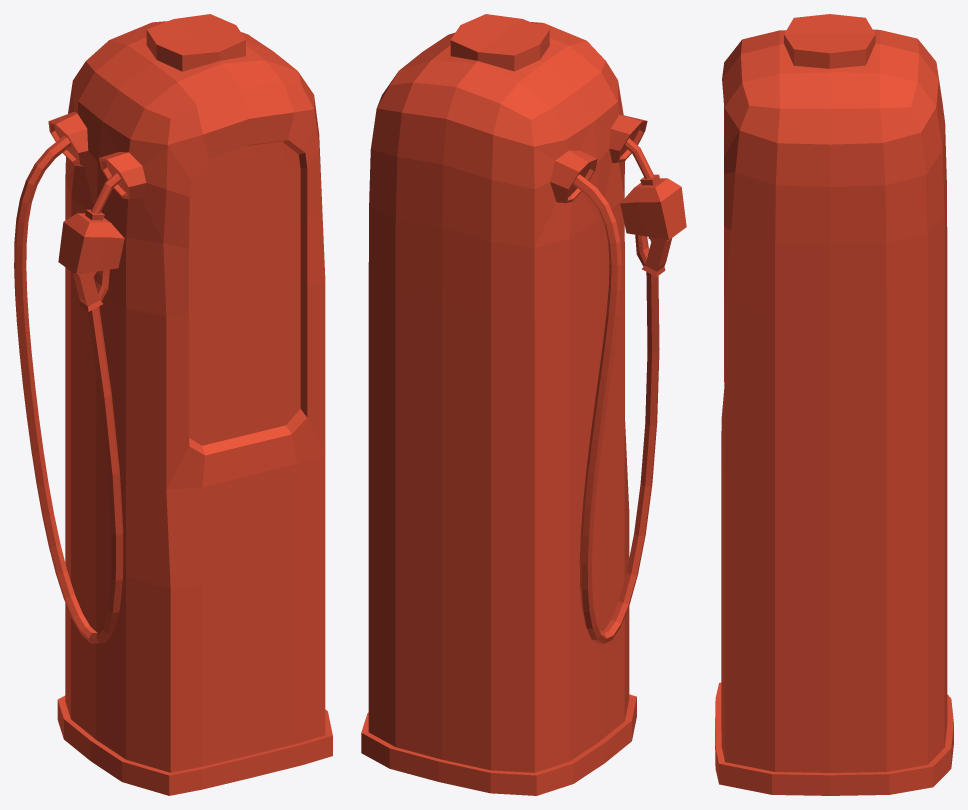
Rendered from Gas Pump.fbx.
3 renders of one model, left to right at view 1: azimuth 30°, elevation 25°; view 2: azimuth 150°, elevation 25°; view 3: azimuth 270°, elevation 25°, orthographic.
Parts seen in each view (by area): view 1: GasPump; view 2: GasPump; view 3: GasPump.
Boxes of the visible parts, <box> form: GasPump: <box>14,14,332,795</box>; GasPump: <box>361,14,686,795</box>; GasPump: <box>715,14,953,795</box>.
Size of the model in its own units: 62.84 by 163 by 49.65.
